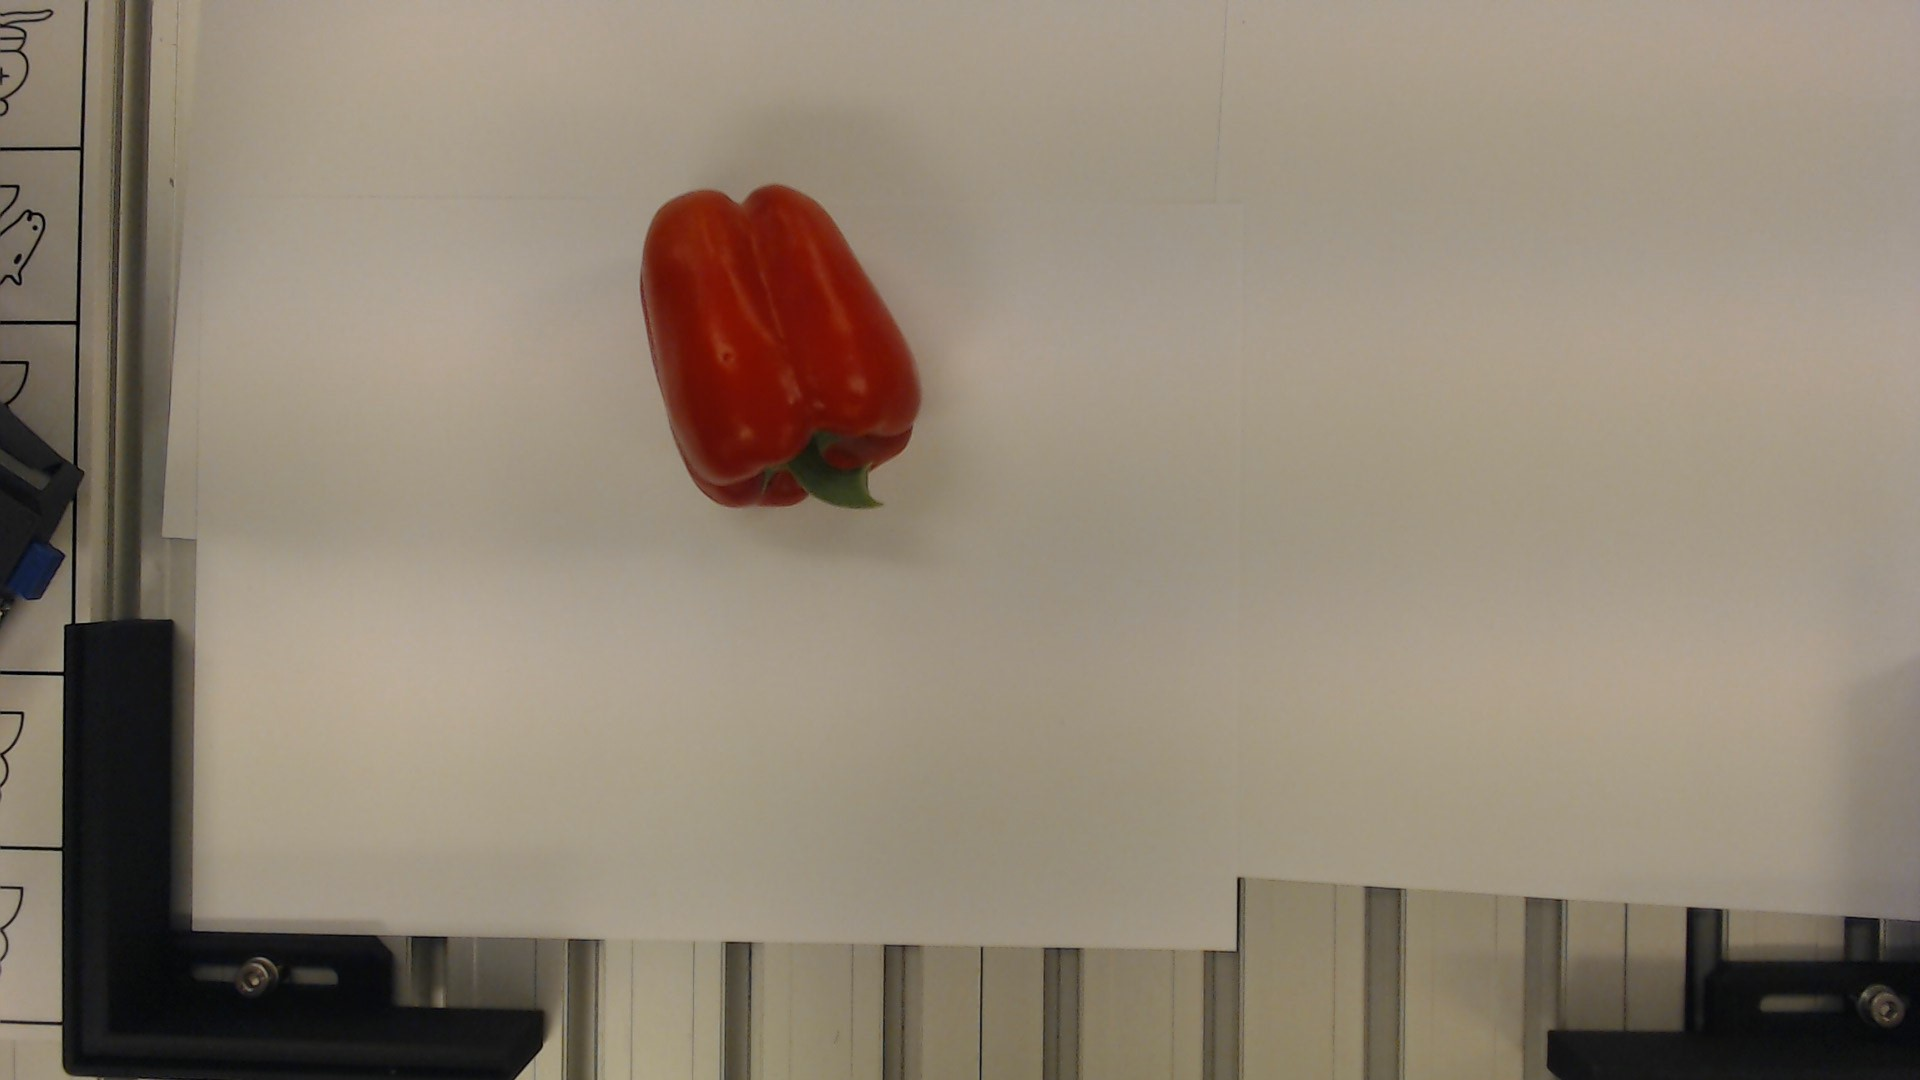Red Bell Pepper: (636, 181, 928, 521)
